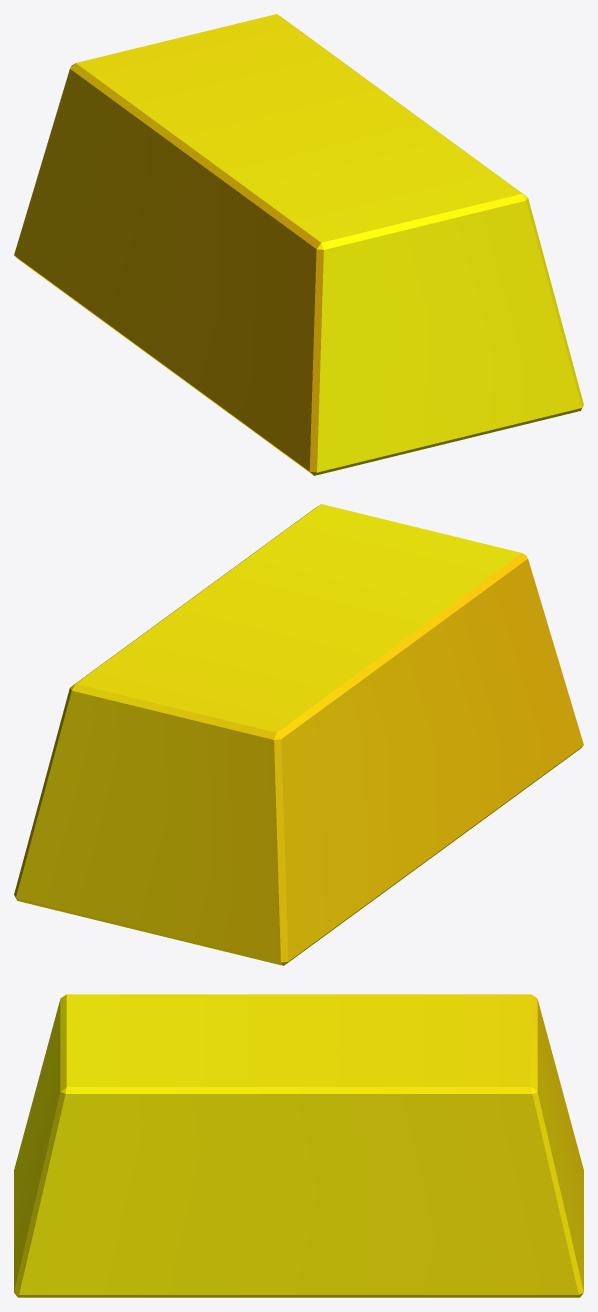
Rendered from GOLD BAR.fbx.
3 renders of one model, top to bottom at view 1: azimuth 30°, elevation 25°; view 2: azimuth 150°, elevation 25°; view 3: azimuth 270°, elevation 25°, orthographic. The views are drawn at different scales.
Parts seen in each view (by area): view 1: Cube.004; view 2: Cube.004; view 3: Cube.004.
Part boxes in pixels (bbox=[...]): Cube.004: bbox=[14, 14, 583, 475]; Cube.004: bbox=[14, 504, 583, 965]; Cube.004: bbox=[14, 994, 583, 1297].
Bounding box in the file's own units: 59.85 × 43.02 × 114.
